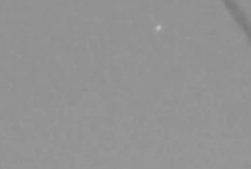Target: (156, 26, 160, 30)
